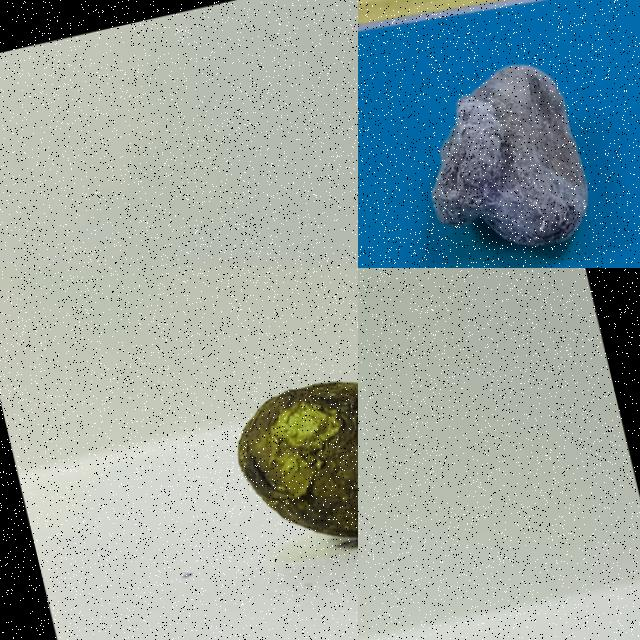Agglomerated_cocoabeans: (358, 19, 639, 267)
Fine_cocoabeans: (185, 314, 357, 589)
